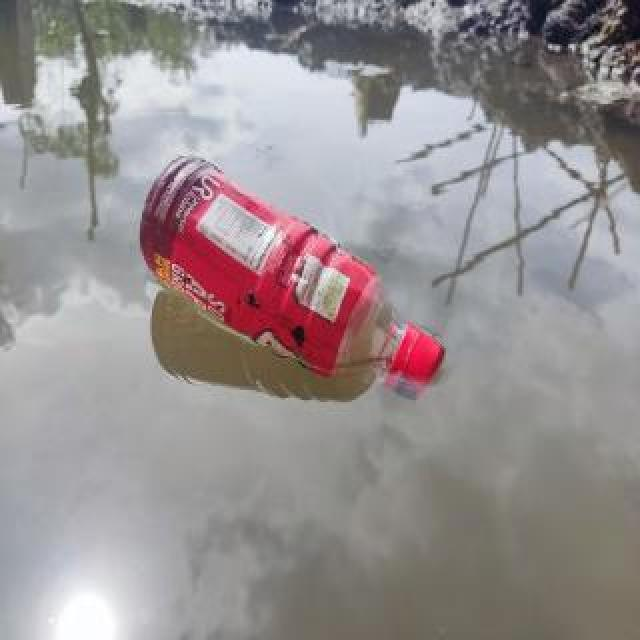bottle: (136, 147, 448, 405)
